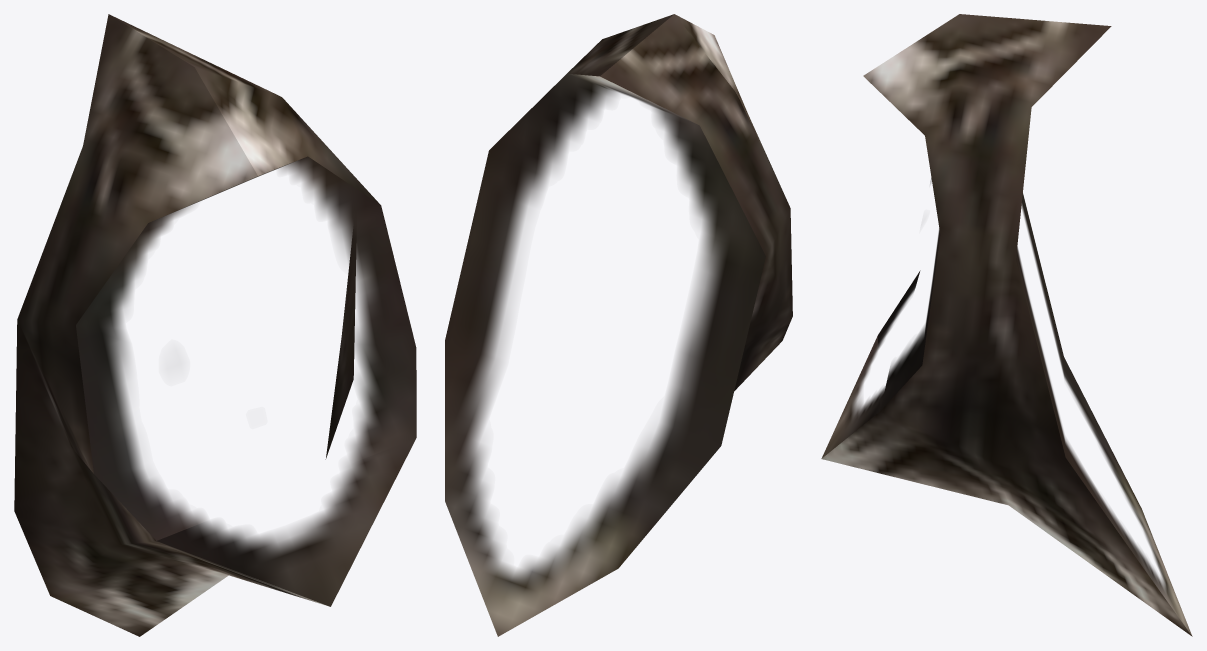
The model's file is ex01shadow_master_7_ankle_left.glb.
3 views of the same model, side by side, from view 1: azimuth 30°, elevation 25°; view 2: azimuth 150°, elevation 25°; view 3: azimuth 270°, elevation 25° (orthographic). The views are drawn at different scales.
Parts seen in each view (by area): view 1: model_ex01shadow_master_7_ankle_left; view 2: model_ex01shadow_master_7_ankle_left; view 3: model_ex01shadow_master_7_ankle_left.
Part boxes in pixels (x1,y1,x2,y2): model_ex01shadow_master_7_ankle_left: [14, 14, 416, 636]; model_ex01shadow_master_7_ankle_left: [445, 14, 792, 636]; model_ex01shadow_master_7_ankle_left: [821, 14, 1192, 636].
Bounding box in the file's own units: 0.1743 × 0.3134 × 0.1791.
Materials: 1 (1 with a texture image).
